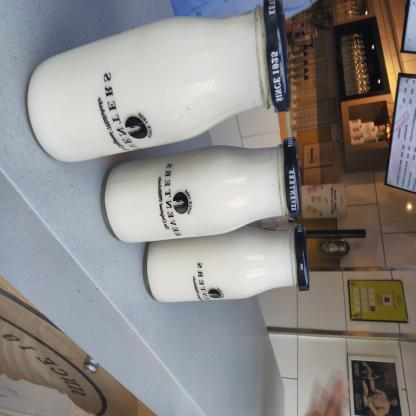bottle: (105, 164, 228, 416), (205, 150, 289, 416), (271, 139, 333, 365)
